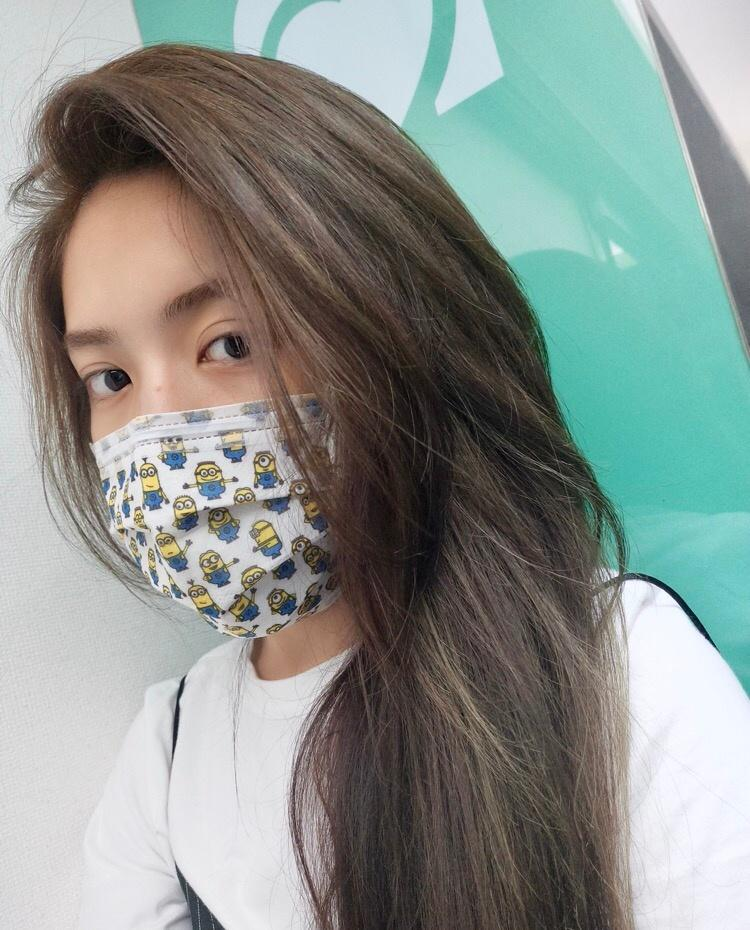OK: (49, 264, 424, 639)
